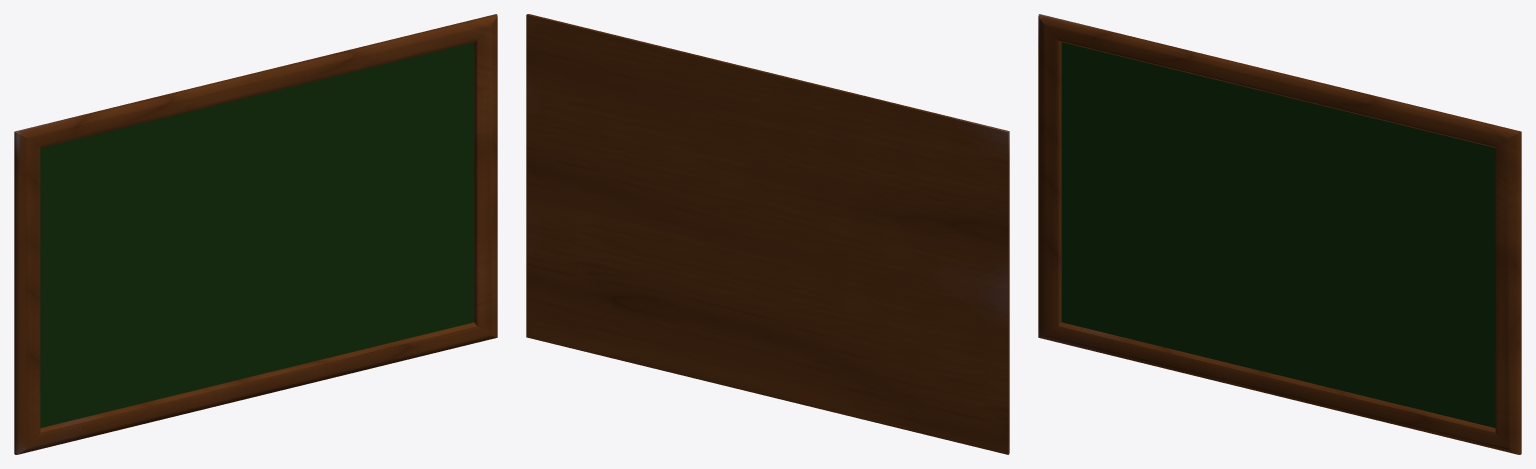
Rendered from BlackboardTexture.fbx.
The picture shows the model from 3 angles, left to right: view 1: azimuth 30°, elevation 25°; view 2: azimuth 150°, elevation 25°; view 3: azimuth 330°, elevation 25°; orthographic projection.
Visible parts, largest first — view 1: Blackboard; view 2: Blackboard; view 3: Blackboard.
Part boxes in pixels (x1,y1,x2,y2): Blackboard: [14, 14, 497, 454]; Blackboard: [526, 14, 1009, 454]; Blackboard: [1038, 14, 1521, 454].
Size of the model in its own units: 17.26 by 11.04 by 0.2473.
